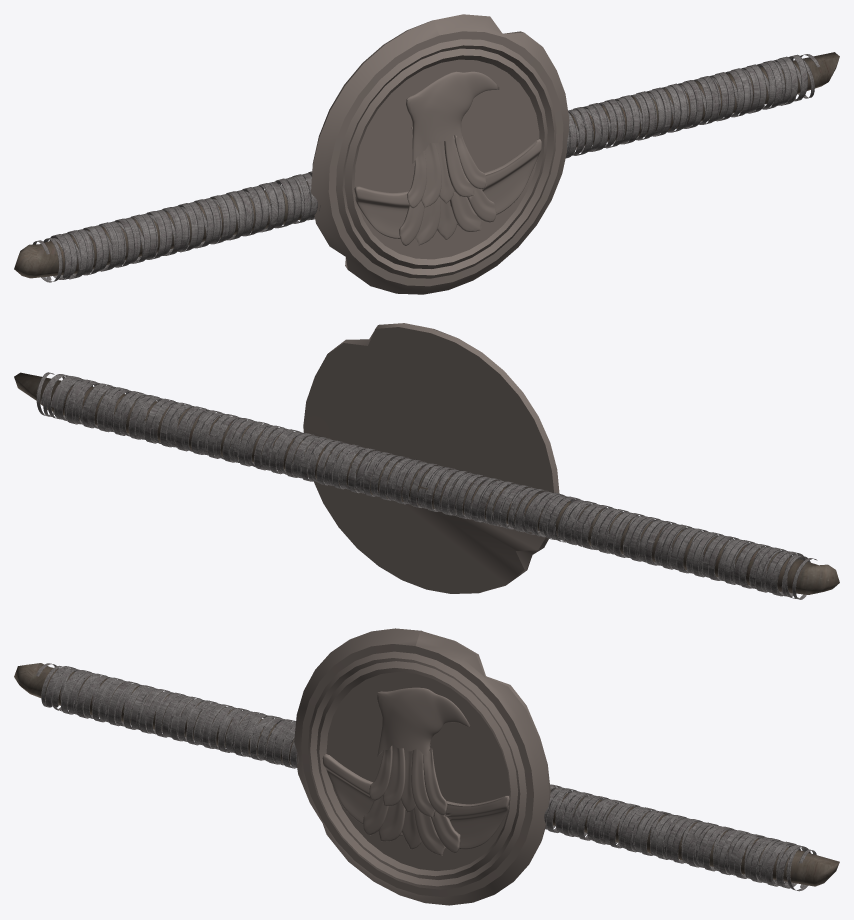
Rendered from palka_10.glb.
3 views of the same model, one above another, from view 1: azimuth 30°, elevation 25°; view 2: azimuth 150°, elevation 25°; view 3: azimuth 330°, elevation 25° (orthographic).
Visible parts, largest first — view 1: palka_10; view 2: palka_10; view 3: palka_10.
Part boxes in pixels (box(x1,y1,x2,y2)): palka_10: box(14, 14, 839, 294); palka_10: box(14, 323, 839, 599); palka_10: box(14, 628, 839, 905).
Bounding box in the file's own units: 84.46 × 26.21 × 5.81.
4 materials, 2 textured.
